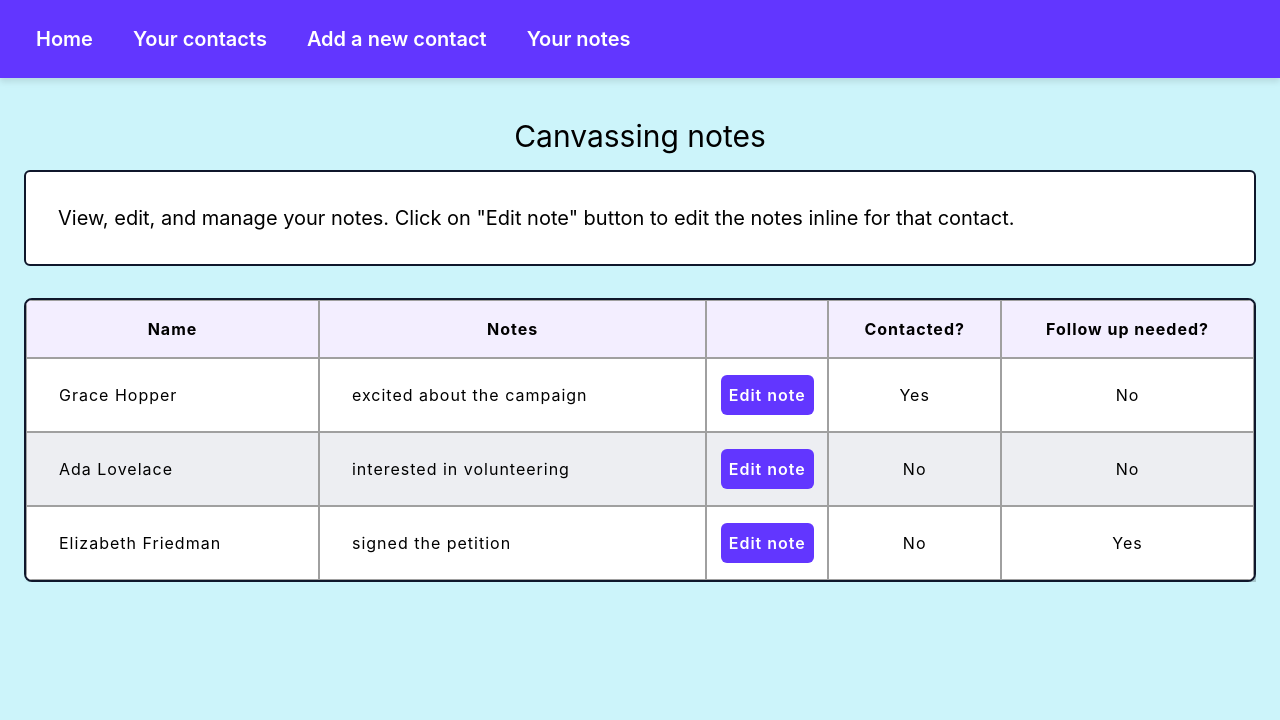
Notes page › should show 'Save note' and 'Cancel edit' buttons after 'Edit note' button is clicked
Click the button with test id "edit-note-button-1" at (768, 395), box [721, 375, 814, 415]
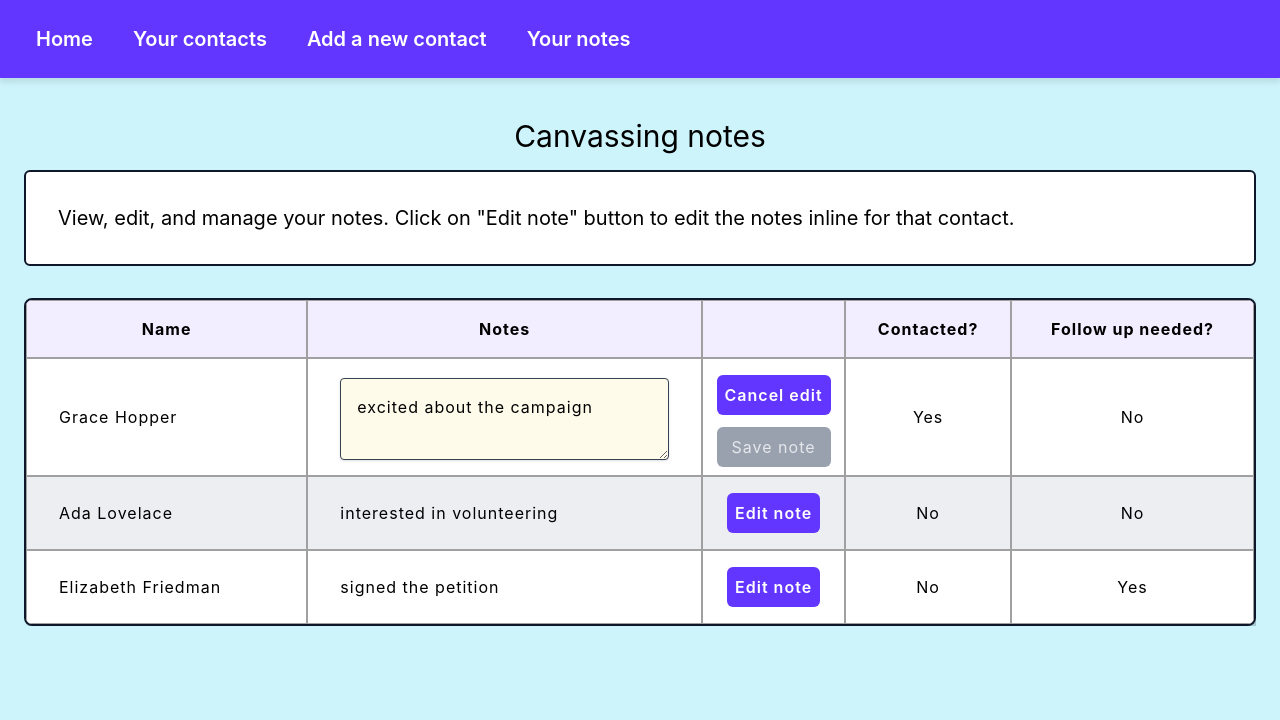
Expected: the button with test id "save-note-button-1" is shown, [717, 427, 831, 467]
Expected: the button with test id "cancel-edit-button-1" is shown, [717, 375, 831, 415]
